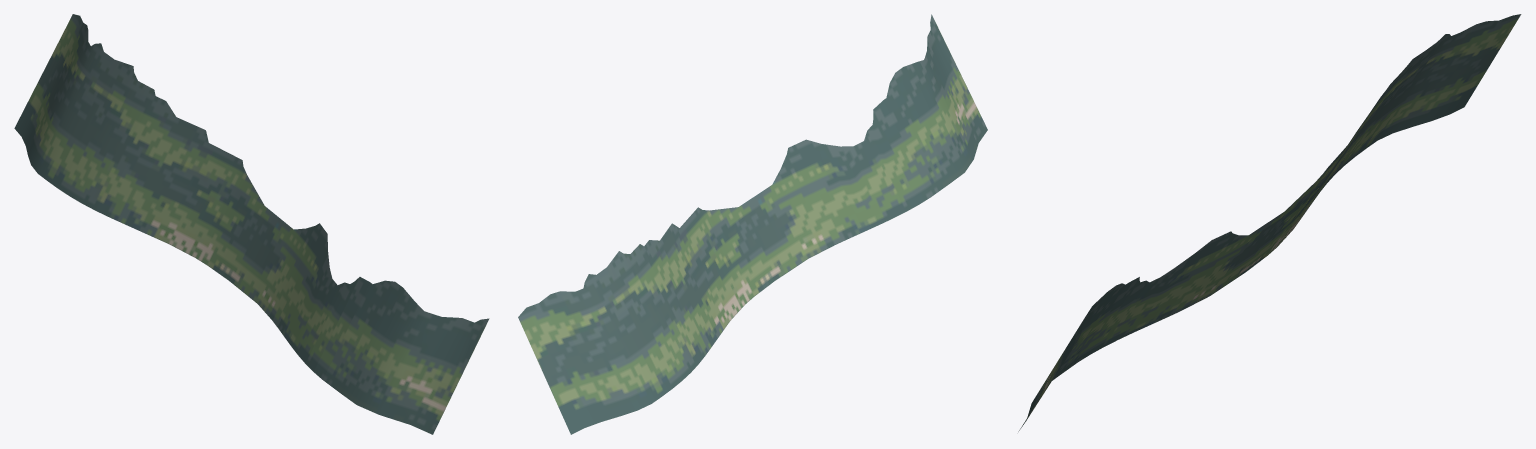
File: BgMD_Mid_Plain_A.FBX
3 renders of one model, left to right at view 1: azimuth 30°, elevation 25°; view 2: azimuth 150°, elevation 25°; view 3: azimuth 330°, elevation 25°, orthographic. The views are drawn at different scales.
Parts seen in each view (by area): view 1: BgMD_Mid_Plain_A; view 2: BgMD_Mid_Plain_A; view 3: BgMD_Mid_Plain_A.
Part boxes in pixels (bbox=[...]): BgMD_Mid_Plain_A: bbox=[14, 14, 489, 434]; BgMD_Mid_Plain_A: bbox=[518, 14, 987, 434]; BgMD_Mid_Plain_A: bbox=[1018, 14, 1521, 431].
Bounding box in the file's own units: 236 × 303 × 2000.
